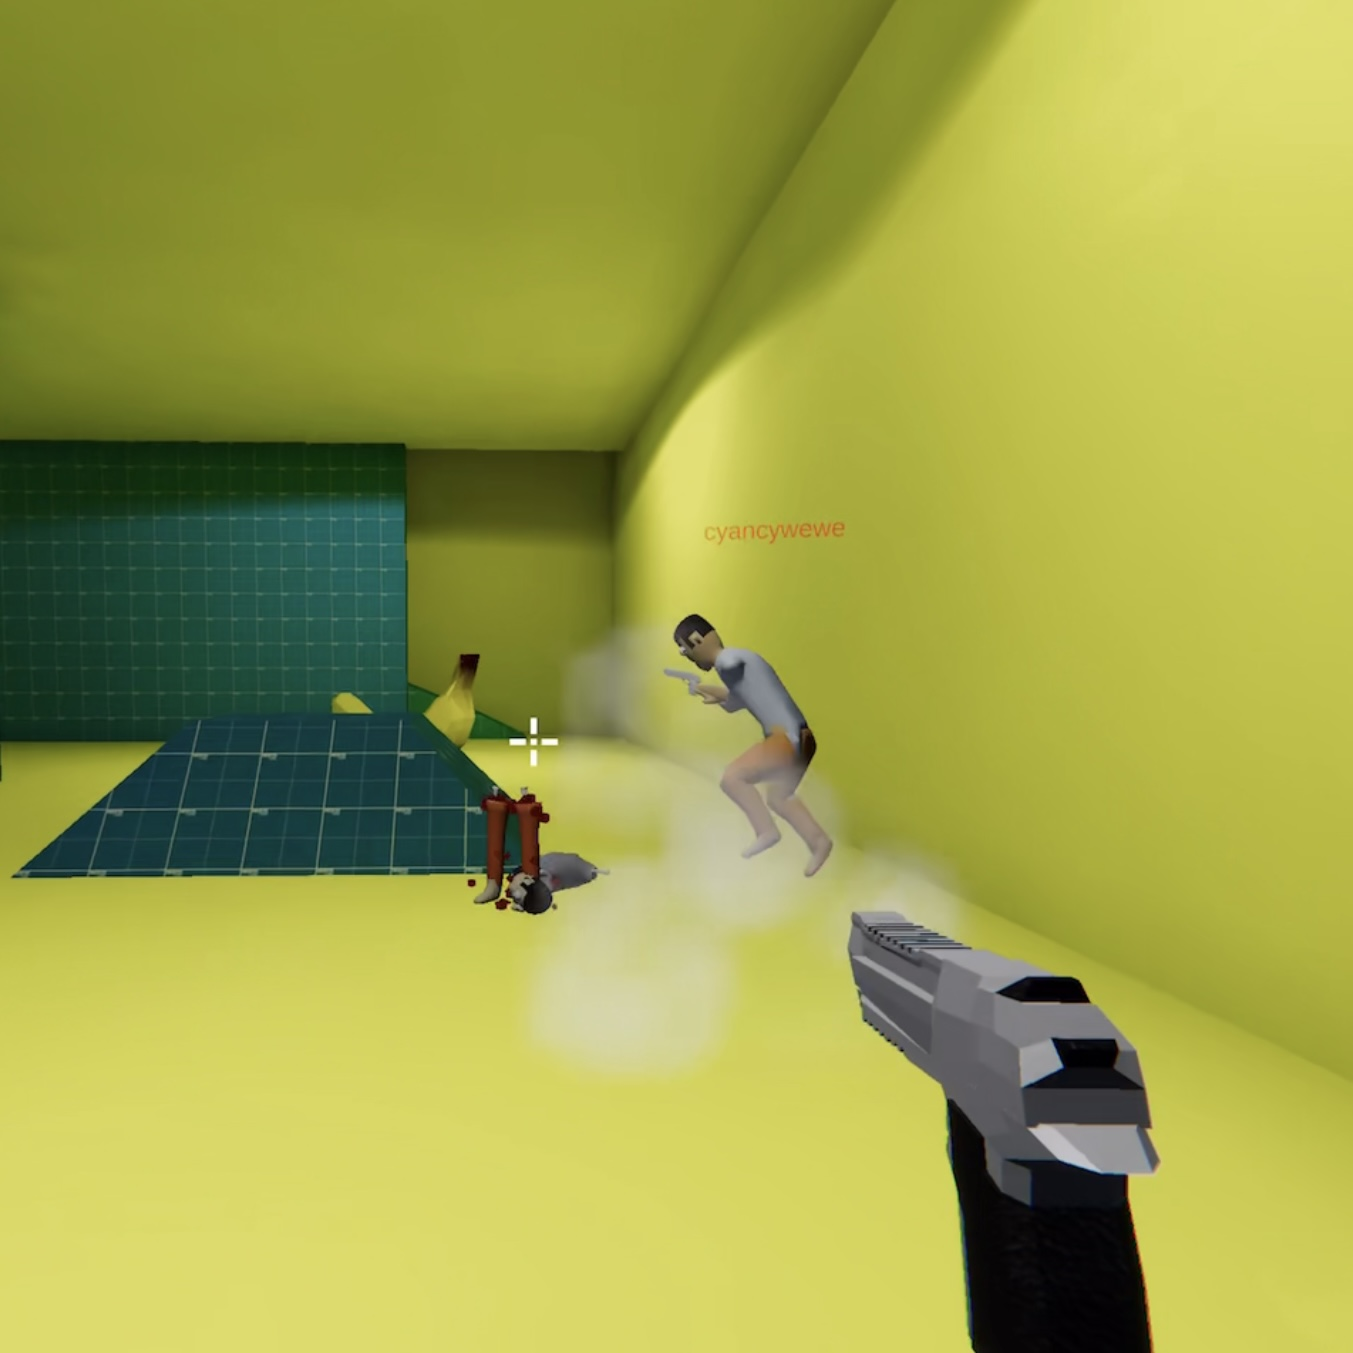human: (679, 619, 842, 875)
